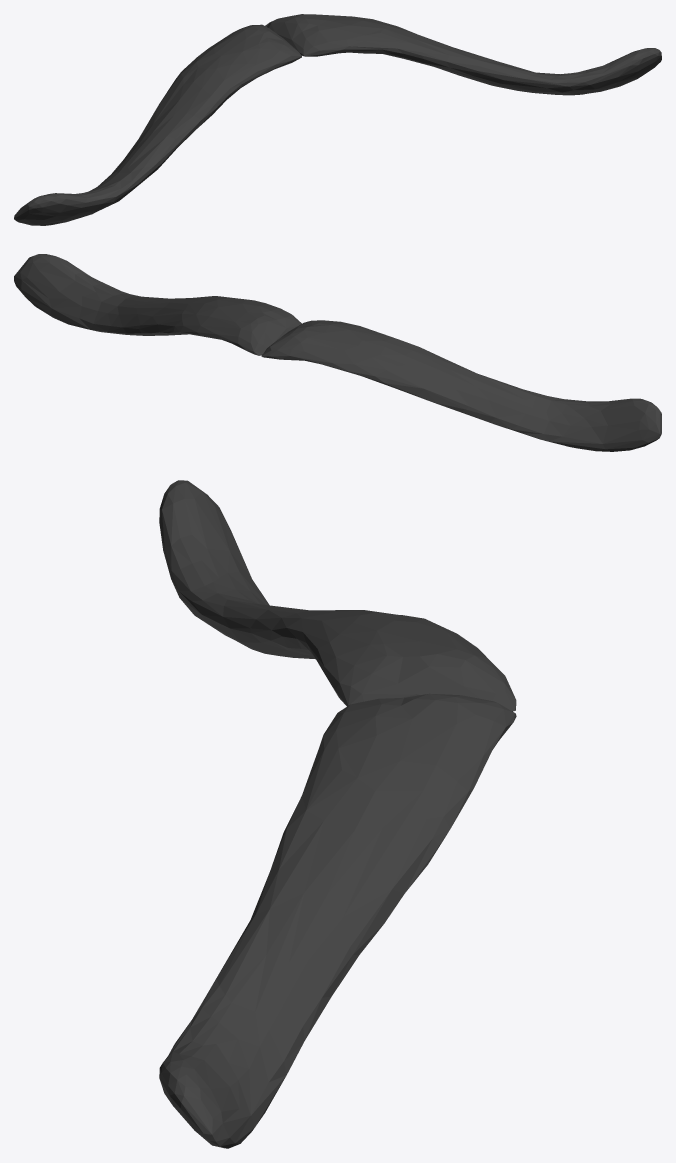
File: m_cervicoauricular_deep.glb
The picture shows the model from 3 angles, top to bottom: view 1: azimuth 30°, elevation 25°; view 2: azimuth 150°, elevation 25°; view 3: azimuth 270°, elevation 25°; orthographic projection. The views are drawn at different scales.
Visible parts, largest first — view 1: m_cervicoauricular_deep; view 2: m_cervicoauricular_deep; view 3: m_cervicoauricular_deep.
Boxes of the visible parts, x1,y1,x2,y2 form: m_cervicoauricular_deep: (14,14,661,225); m_cervicoauricular_deep: (14,254,661,451); m_cervicoauricular_deep: (159,480,516,1148).
Size of the model in its own units: 0.00191 by 0.00027 by 0.000458.
1 material, 1 textured.
